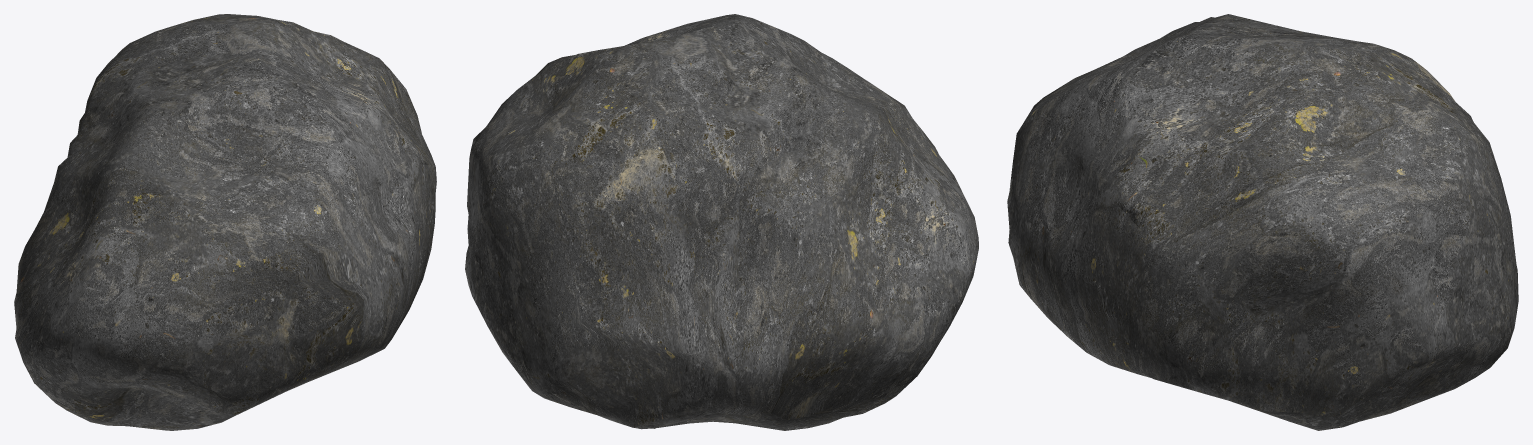
The model's file is Rock1.fbx.
The picture shows the model from 3 angles, left to right: view 1: azimuth 30°, elevation 25°; view 2: azimuth 150°, elevation 25°; view 3: azimuth 270°, elevation 25°; orthographic projection. The views are drawn at different scales.
Visible parts, largest first — view 1: Rock 1.003; view 2: Rock 1.003; view 3: Rock 1.003.
Boxes of the visible parts, x1=… form: Rock 1.003: x1=14, y1=14, x2=436, y2=430; Rock 1.003: x1=465, y1=14, x2=978, y2=430; Rock 1.003: x1=1007, y1=14, x2=1518, y2=430.
Bounding box in the file's own units: 379 × 310 × 378.
